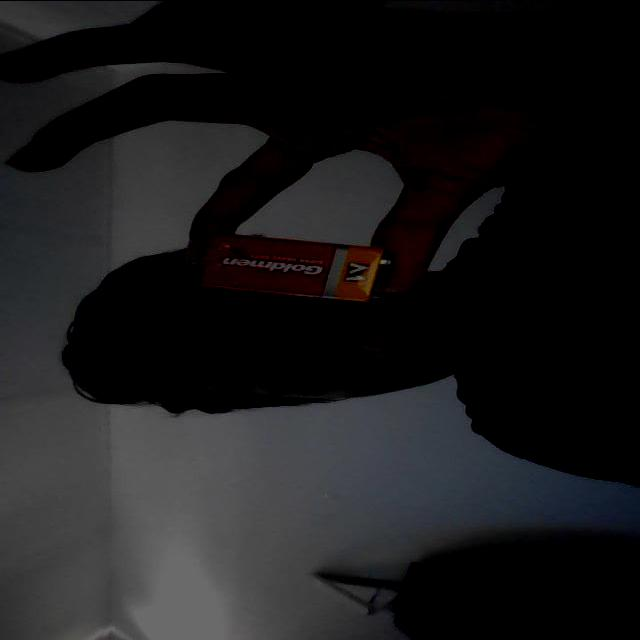9V: (176, 194, 388, 324)
